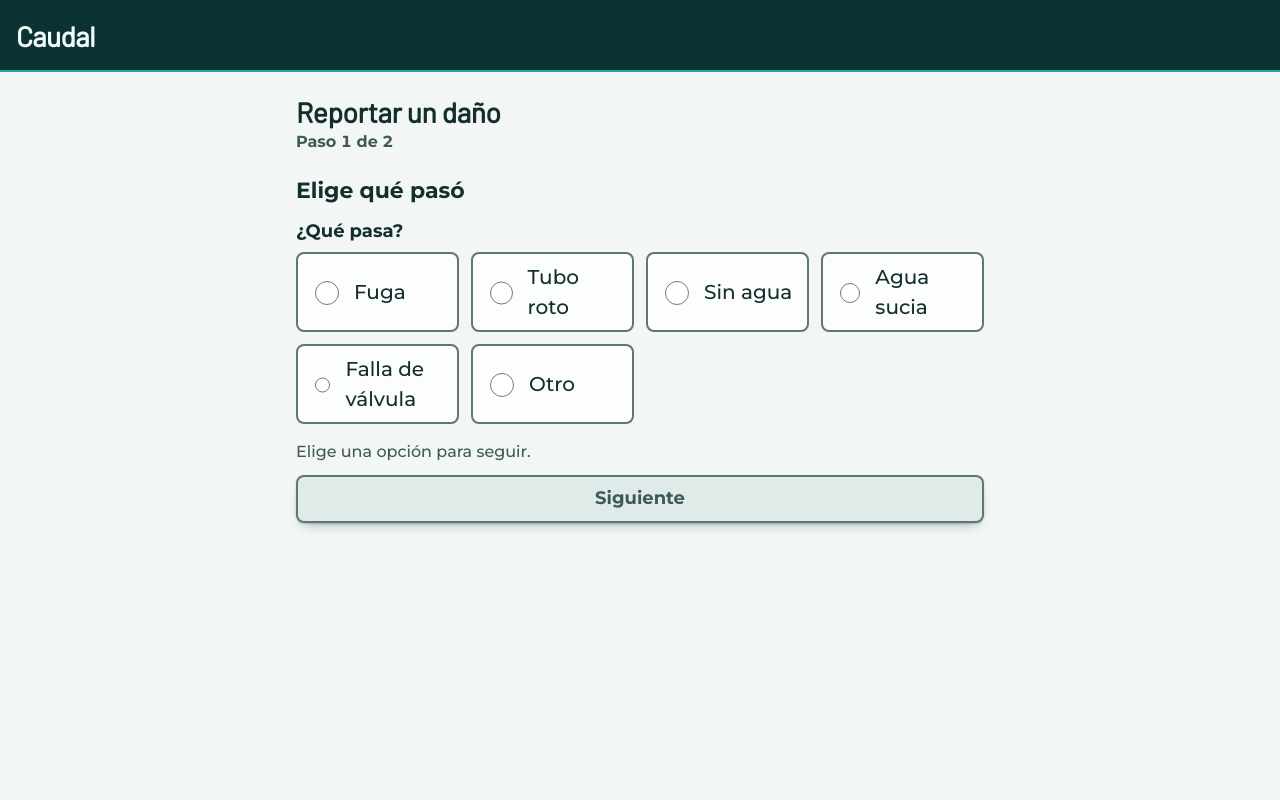
DamageReportPage (S05, without login) › sends only the fields of the API, and the honeypot empty
Step 1. Click the radio button labelled "Fuga" → click(327, 293), box [315, 281, 339, 305]
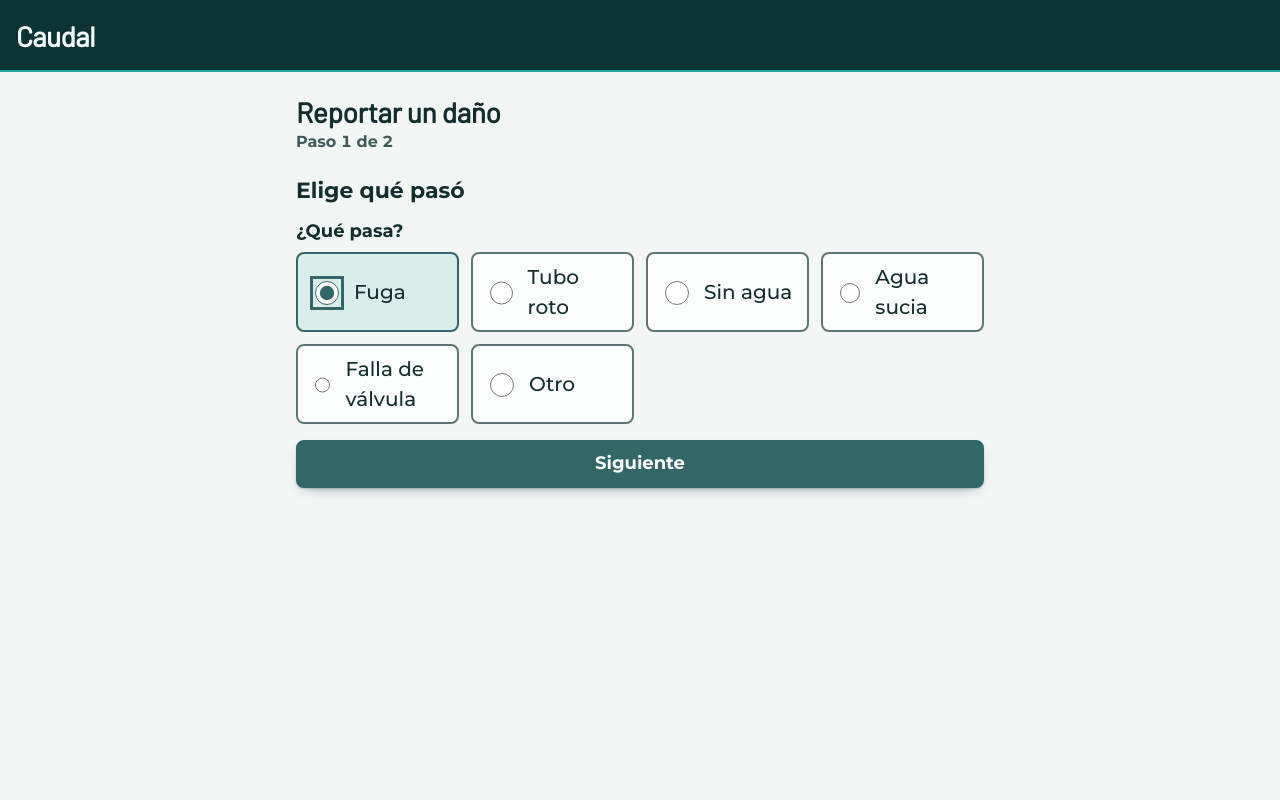
Step 2. Click the button "Siguiente" → click(640, 464), box [296, 440, 984, 488]
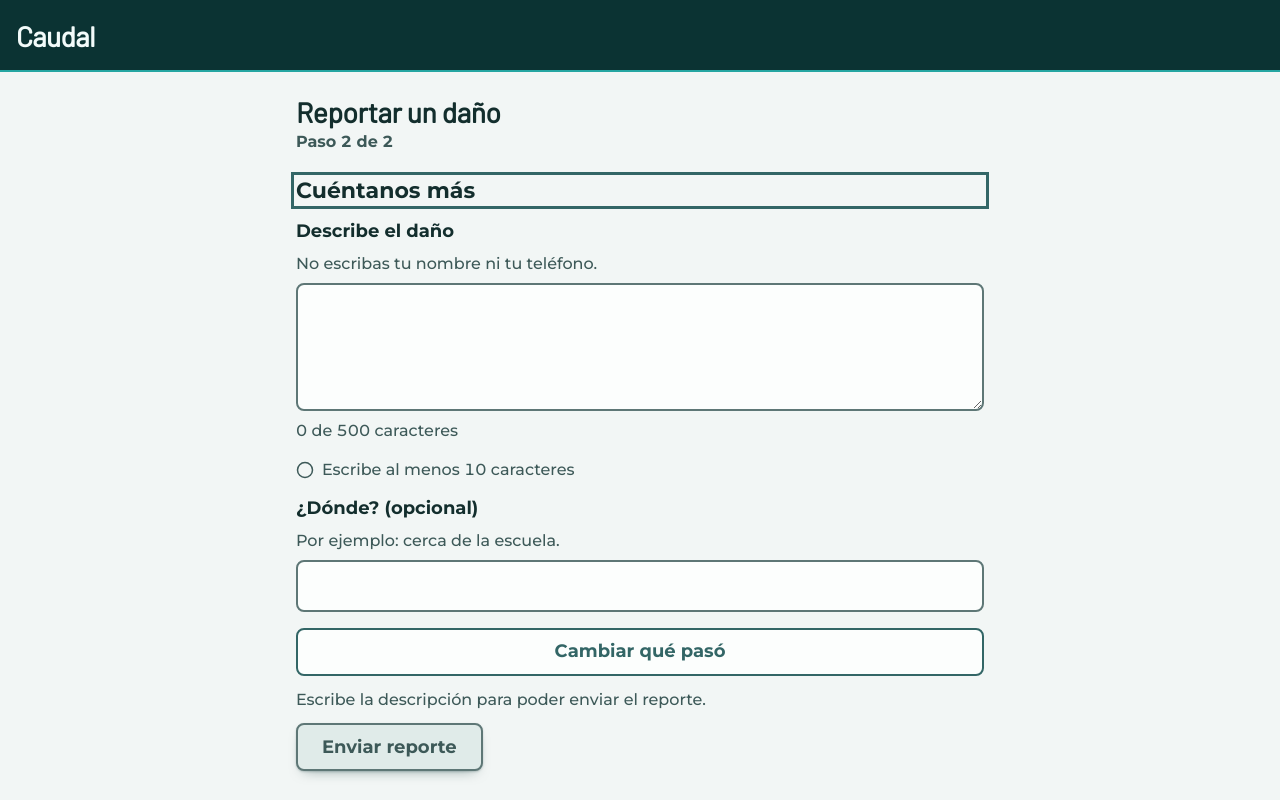
Step 3. Type "Hay agua saliendo del tubo de la calle principal." into the text box labelled "Describe el daño" → (640, 347), box [296, 283, 984, 411]
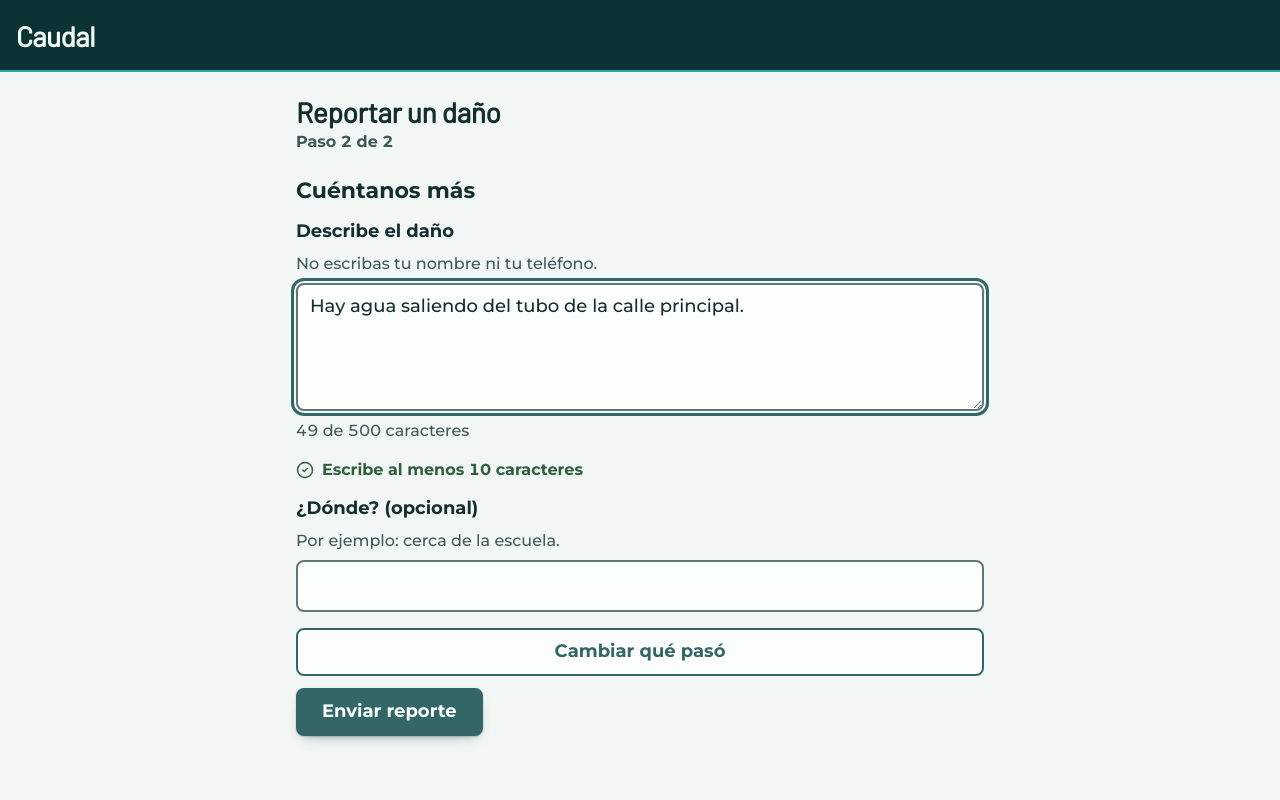
Step 4. Click the button "Enviar reporte" → click(389, 712), box [296, 688, 483, 736]
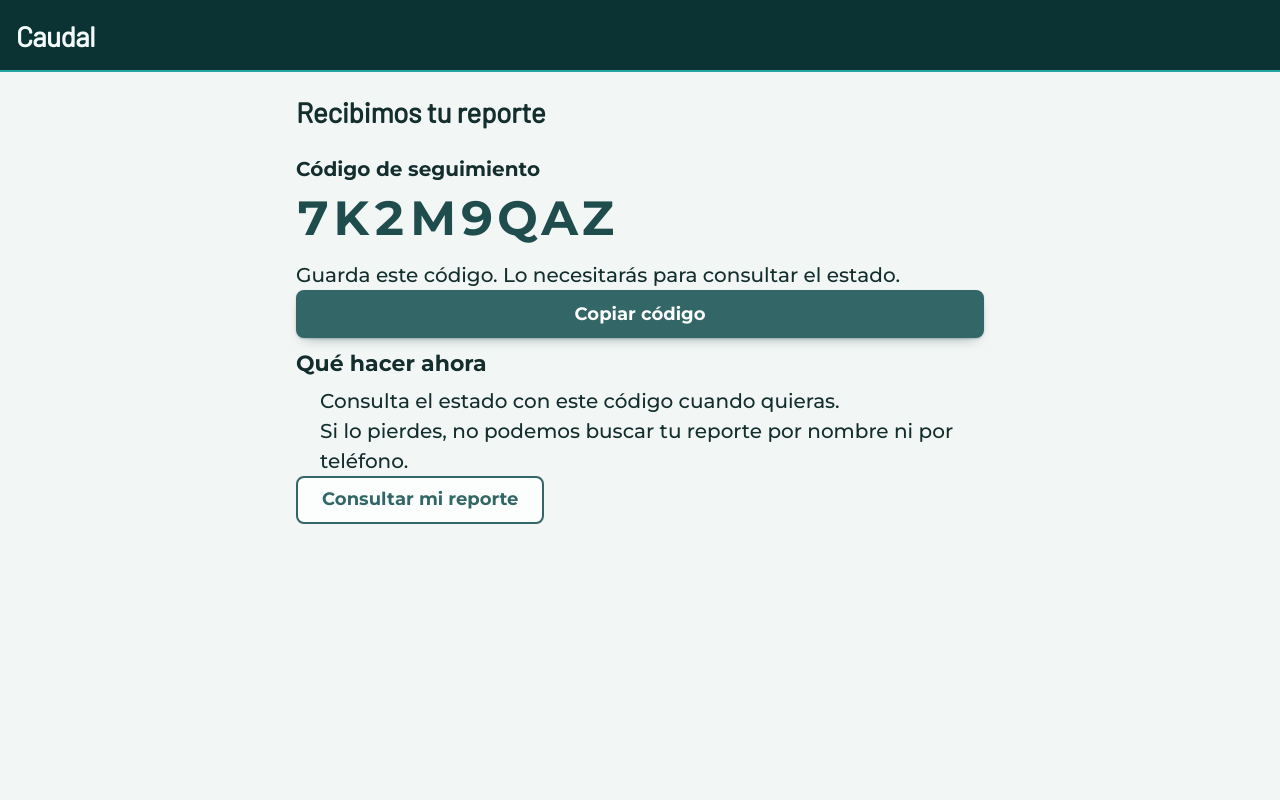
Expected: the text "7K2M9QAZ" is shown, [296, 189, 618, 247]
